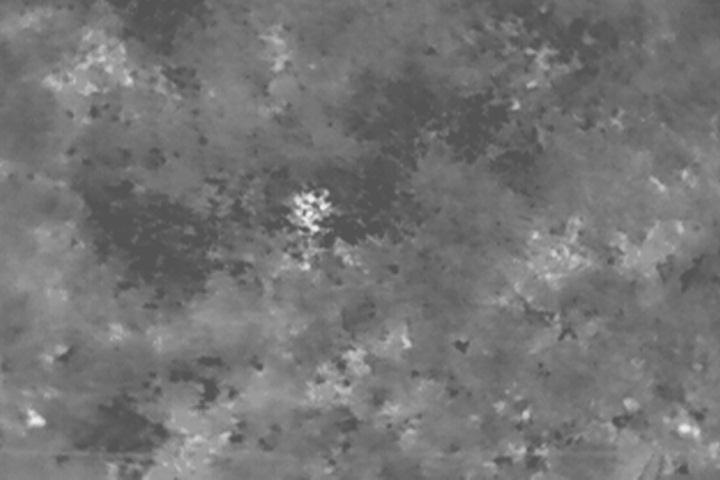landmine: (290, 181, 343, 249)
